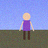person: (19, 13, 33, 40)
